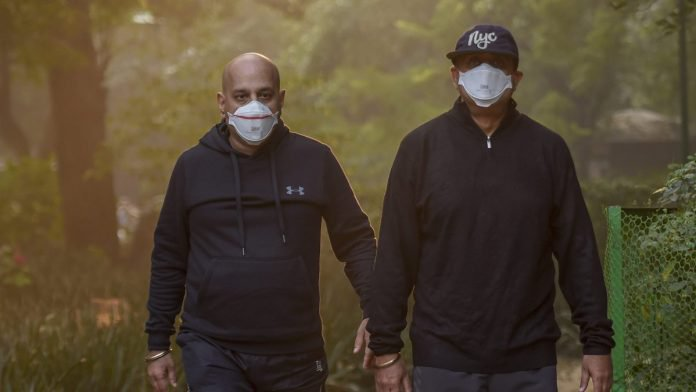mask: (429, 21, 542, 128), (211, 45, 306, 148)
